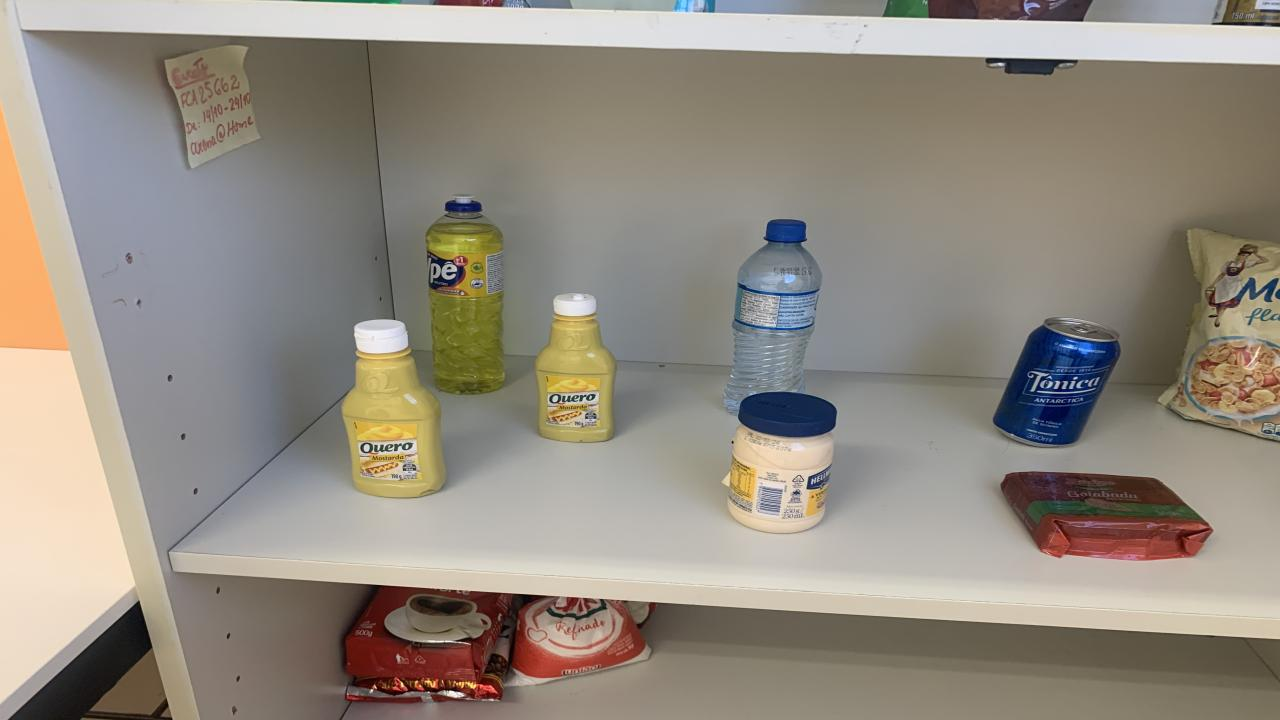Detergent-Cleanup_Items: (425, 195, 505, 394)
Flakes-Snacks: (1160, 229, 1280, 441)
Guava-Snacks: (1002, 472, 1212, 561)
Mayonnaise-Pantry_Items: (722, 392, 838, 532)
Mustard-Pantry_Items: (342, 319, 445, 497), (535, 292, 618, 442)
Tonic-Drinks: (992, 317, 1120, 446)
Water_Bottle-Drinks: (725, 219, 822, 414)
